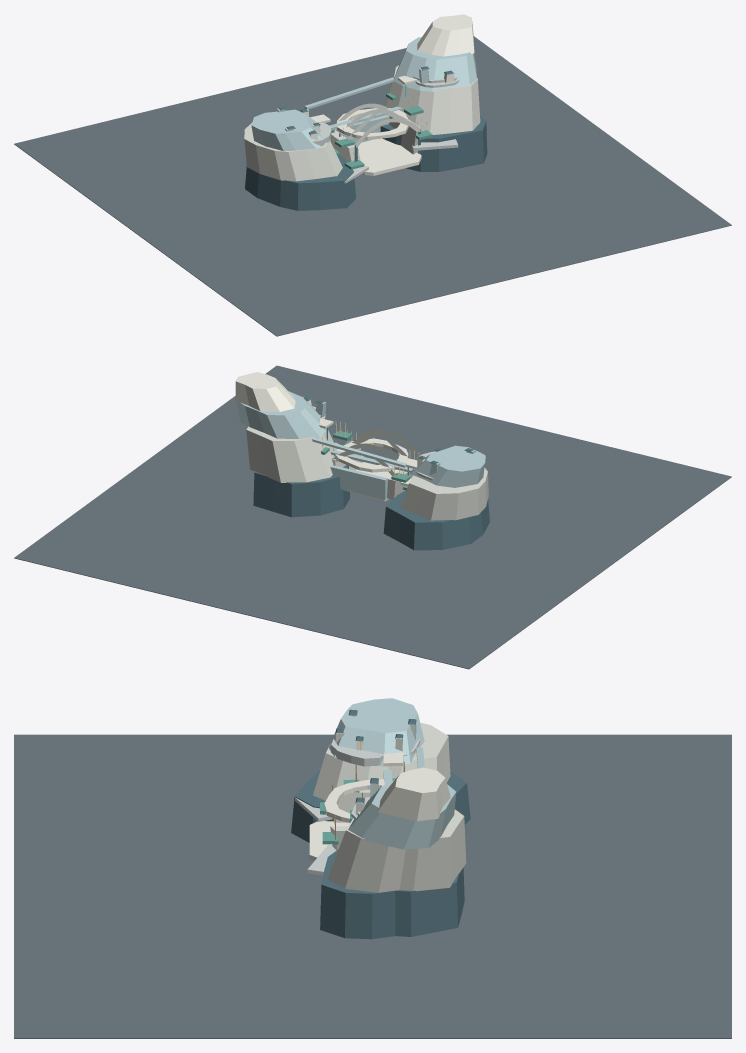
File: J7R5_INHABITED_CIVIC_SECTION_NONCANONICAL.glb
3 renders of one model, top to bottom at view 1: azimuth 30°, elevation 25°; view 2: azimuth 150°, elevation 25°; view 3: azimuth 270°, elevation 25°, orthographic. The views are drawn at different scales.
Parts seen in each view (by area): view 1: NONCANONICAL_10KM_BASIS, EAST_MAIN_RESIDENTIAL_MASS, WEST_FOUNDATION_BUTTRESS, WEST_HIGH_CITY_MASS, EAST_FOUNDATION_BUTTRESS, EAST_UPPER_CIVIC_CITY, WEST_CROWN_CIVIC_RIDGE, EAST_CROWN_INHABITED_PEAK, NAVE_PUBLIC_ASSEMBLY_HALL_FLOOR, NAVE_UPPER_OPEN_OCULUS; view 2: NONCANONICAL_10KM_BASIS, EAST_MAIN_RESIDENTIAL_MASS, WEST_FOUNDATION_BUTTRESS, EAST_FOUNDATION_BUTTRESS, WEST_HIGH_CITY_MASS, EAST_UPPER_CIVIC_CITY, WEST_CROWN_CIVIC_RIDGE, EAST_CROWN_INHABITED_PEAK, NAVE_PUBLIC_NORTH_READING_WALL, NAVE_UPPER_OPEN_OCULUS, CITY_SKYBRIDGE_FORUM_B; view 3: NONCANONICAL_10KM_BASIS, EAST_FOUNDATION_BUTTRESS, EAST_MAIN_RESIDENTIAL_MASS, WEST_CROWN_CIVIC_RIDGE, EAST_UPPER_CIVIC_CITY, WEST_HIGH_CITY_MASS, EAST_CROWN_INHABITED_PEAK, WEST_FOUNDATION_BUTTRESS, NAVE_UPPER_OPEN_OCULUS, WEST_CITY_SKYWELL, NAVE_PUBLIC_ASSEMBLY_HALL_FLOOR.
Boxes of the visible parts, x1,y1,x2,y2 form: NONCANONICAL_10KM_BASIS: (14,36,731,336); EAST_MAIN_RESIDENTIAL_MASS: (385,65,480,134); WEST_FOUNDATION_BUTTRESS: (245,155,355,210); WEST_HIGH_CITY_MASS: (244,123,342,181); EAST_FOUNDATION_BUTTRESS: (380,115,487,171); EAST_UPPER_CIVIC_CITY: (393,37,476,91); WEST_CROWN_CIVIC_RIDGE: (251,109,327,151); EAST_CROWN_INHABITED_PEAK: (417,14,474,56); NAVE_PUBLIC_ASSEMBLY_HALL_FLOOR: (358,138,421,175); NAVE_UPPER_OPEN_OCULUS: (337,108,408,139); NONCANONICAL_10KM_BASIS: (14,365,731,669); EAST_MAIN_RESIDENTIAL_MASS: (246,426,336,482); WEST_FOUNDATION_BUTTRESS: (383,490,489,550); EAST_FOUNDATION_BUTTRESS: (253,448,349,517); WEST_HIGH_CITY_MASS: (400,468,488,520); EAST_UPPER_CIVIC_CITY: (237,391,326,438); WEST_CROWN_CIVIC_RIDGE: (410,445,485,487); EAST_CROWN_INHABITED_PEAK: (235,372,295,411); NAVE_PUBLIC_NORTH_READING_WALL: (330,465,387,499); NAVE_UPPER_OPEN_OCULUS: (334,438,408,472); CITY_SKYBRIDGE_FORUM_B: (312,438,406,467); NONCANONICAL_10KM_BASIS: (14,734,731,1038); EAST_FOUNDATION_BUTTRESS: (320,849,464,939); EAST_MAIN_RESIDENTIAL_MASS: (327,809,466,892); WEST_CROWN_CIVIC_RIDGE: (328,698,424,766); EAST_UPPER_CIVIC_CITY: (348,781,456,849); WEST_HIGH_CITY_MASS: (313,722,450,800); EAST_CROWN_INHABITED_PEAK: (377,767,450,821); WEST_FOUNDATION_BUTTRESS: (291,771,470,842); NAVE_UPPER_OPEN_OCULUS: (324,779,384,822); WEST_CITY_SKYWELL: (331,739,383,766); NAVE_PUBLIC_ASSEMBLY_HALL_FLOOR: (309,821,349,860).
Size of the model in its own units: 10000 by 2640 by 10000.
